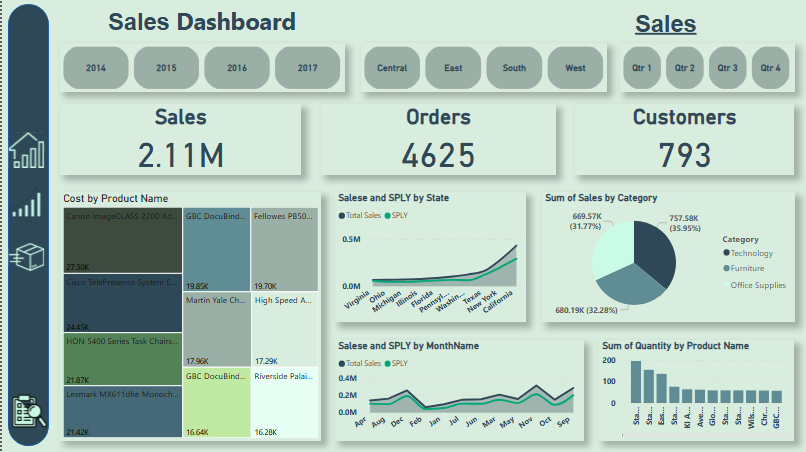

The page's visual inventory and layout, read from the dashboard file:
{"tool":"powerbi","page":{"name":"Sales","canvas":[1280,720],"ordinal":0},"visuals":[{"type":"advancedSlicerVisual","fields":{"Values":["Calender.Date.Variation.Date Hierarchy.Year"]},"box":[91.7,70,451.7,78.3],"z":0},{"type":"advancedSlicerVisual","fields":{"Values":["Query - Orders.Region"]},"box":[570,70,390,78.3],"z":1000},{"type":"advancedSlicerVisual","fields":{"Values":["Calender.Date.Variation.Date Hierarchy.Quarter"]},"box":[981.7,70,276.7,78.3],"z":2000},{"type":"card","title":"Sales","fields":{"Values":["Key Measure.Total Salese"]},"box":[91.7,166.7,383.3,111.7],"z":3000},{"type":"card","title":"Customers","fields":{"Values":["Key Measure.Customers"]},"box":[910,166.7,348.3,111.7],"z":4000},{"type":"card","title":"Orders","fields":{"Values":["Key Measure.Orders"]},"box":[506.7,166.7,373.3,111.7],"z":5000},{"type":"lineChart","title":"Salese and SPLY by MonthName","fields":{"Category":["Calender.MonthName"],"Y":["Key Measure.Total Salese","Key Measure.SPLY"]},"box":[528.3,541.7,395,160],"z":6000},{"type":"pieChart","fields":{"Category":["Query - Orders.Category"],"Y":["Sum(Query - Orders.Sales)"]},"box":[856.7,306.7,401.7,206.7],"z":7000},{"type":"treemap","fields":{"Group":["Query - Orders.Product Name"],"Values":["Key Measure.Cost"]},"box":[91.7,306.7,415,395],"z":8000},{"type":"areaChart","title":"Salese and SPLY by State","fields":{"Category":["Query - Orders.State"],"Y":["Key Measure.Total Salese","Key Measure.SPLY"]},"box":[528.3,306.7,303.3,206.7],"z":9000},{"type":"columnChart","fields":{"Category":["Query - Orders.Product Name"],"Y":["Sum(Query - Orders.Quantity)"]},"box":[948.3,541.7,310,160],"z":10000},{"type":"shape","box":[10,8.3,65,701.7],"z":11000},{"type":"actionButton","box":[6.7,278.3,65,88.3],"z":12000},{"type":"actionButton","box":[6.7,195,65,88.3],"z":13000},{"type":"actionButton","box":[11.7,610,65,88.3],"z":14000},{"type":"actionButton","box":[6.7,365,65,88.3],"z":15000},{"type":"textbox","box":[910.2,13.2,288.3,55.6],"z":16000},{"type":"textbox","box":[110.2,4.4,415.8,66.1],"z":17000}]}

Visuals, with their boxes on the page's 1280x720 design canvas (x1, y1, x2, y2). These are canvas units, not pixel positions in the 806x452 screenshot, which may show the page scaled, cropped or inside an application window:
advancedSlicerVisual - Calender.Date.Variation.Date Hierarchy.Year: Rect(92, 70, 543, 148)
advancedSlicerVisual - Query - Orders.Region: Rect(570, 70, 960, 148)
advancedSlicerVisual - Calender.Date.Variation.Date Hierarchy.Quarter: Rect(982, 70, 1258, 148)
"Sales" card: Rect(92, 167, 475, 278)
"Customers" card: Rect(910, 167, 1258, 278)
"Orders" card: Rect(507, 167, 880, 278)
"Salese and SPLY by MonthName" lineChart: Rect(528, 542, 923, 702)
pieChart - Query - Orders.Category x Sum(Query - Orders.Sales): Rect(857, 307, 1258, 513)
treemap - Query - Orders.Product Name x Key Measure.Cost: Rect(92, 307, 507, 702)
"Salese and SPLY by State" areaChart: Rect(528, 307, 832, 513)
columnChart - Query - Orders.Product Name x Sum(Query - Orders.Quantity): Rect(948, 542, 1258, 702)
shape: Rect(10, 8, 75, 710)
actionButton: Rect(7, 278, 72, 367)
actionButton: Rect(7, 195, 72, 283)
actionButton: Rect(12, 610, 77, 698)
actionButton: Rect(7, 365, 72, 453)
textbox: Rect(910, 13, 1198, 69)
textbox: Rect(110, 4, 526, 70)
